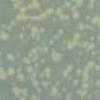white: (51, 51, 64, 63), (0, 66, 7, 81), (15, 74, 26, 83), (22, 56, 32, 65), (0, 30, 9, 40), (45, 39, 56, 47), (84, 62, 96, 69), (50, 33, 60, 41), (86, 22, 94, 32), (73, 0, 83, 8), (57, 27, 66, 35), (66, 40, 72, 52), (72, 13, 80, 22), (71, 38, 79, 47), (87, 43, 95, 52), (5, 53, 13, 62), (40, 13, 49, 21), (87, 0, 95, 9), (7, 66, 14, 76), (13, 86, 20, 96), (25, 66, 33, 74), (52, 87, 60, 95), (19, 87, 27, 95), (32, 0, 40, 8), (59, 45, 66, 54), (77, 22, 84, 31), (40, 26, 47, 35), (55, 8, 62, 17), (18, 31, 24, 41), (12, 0, 24, 5), (60, 40, 67, 48), (81, 22, 88, 30), (30, 25, 38, 32), (30, 56, 38, 63), (31, 79, 38, 87), (35, 86, 43, 93), (75, 87, 82, 95), (10, 80, 18, 87), (63, 0, 71, 7), (71, 32, 80, 38), (84, 48, 90, 57), (36, 33, 42, 42), (75, 67, 81, 76), (30, 31, 37, 38), (26, 49, 33, 56), (41, 58, 48, 65), (66, 92, 73, 99), (14, 3, 21, 10), (59, 14, 65, 22), (77, 41, 83, 49), (5, 26, 13, 32), (13, 68, 21, 74), (41, 80, 47, 88), (67, 64, 73, 72), (52, 16, 57, 25), (89, 51, 96, 57), (85, 15, 91, 22), (77, 49, 83, 56), (26, 15, 33, 21), (48, 9, 54, 16), (46, 79, 52, 86), (46, 74, 53, 80), (81, 82, 88, 88), (20, 8, 27, 14), (26, 3, 33, 9), (90, 69, 96, 76), (95, 64, 100, 72), (89, 36, 95, 42), (20, 26, 26, 32), (31, 62, 37, 68), (34, 17, 40, 23), (38, 73, 44, 79), (45, 67, 51, 73), (44, 46, 49, 53), (74, 79, 79, 86), (55, 80, 60, 87), (63, 71, 68, 78), (95, 35, 100, 41), (82, 41, 87, 47), (39, 47, 44, 53), (33, 51, 38, 57), (10, 21, 15, 27), (16, 14, 21, 20), (21, 15, 26, 21), (30, 74, 36, 79), (60, 87, 66, 92), (95, 8, 100, 14), (96, 50, 100, 57), (27, 23, 31, 30), (19, 95, 26, 99), (65, 15, 70, 20), (0, 23, 5, 28), (84, 75, 89, 80), (71, 6, 76, 11), (95, 43, 99, 49), (33, 68, 37, 74), (96, 79, 100, 85), (90, 79, 94, 85), (59, 5, 65, 9), (31, 48, 36, 52), (68, 76, 72, 81), (51, 85, 56, 89), (50, 91, 54, 96), (82, 91, 87, 95), (83, 70, 87, 74), (87, 94, 91, 98), (57, 92, 60, 96), (32, 95, 35, 99), (81, 96, 85, 99)
